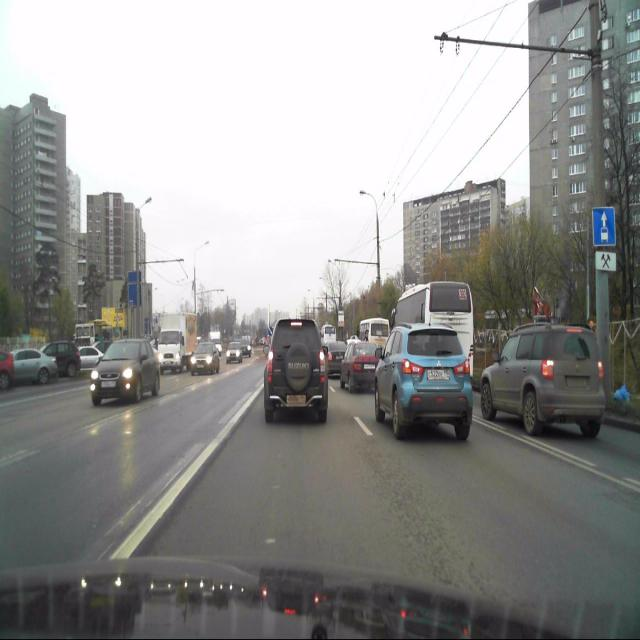road sign: (592, 207, 615, 245)
